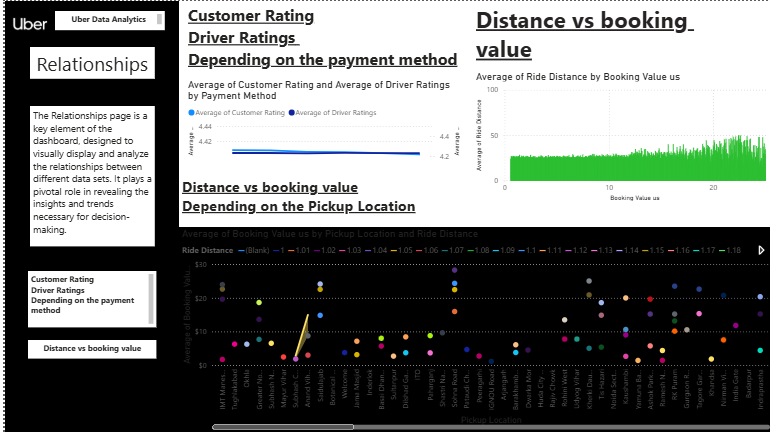

What the dashboard file says about the page in this screenshot:
{"tool":"powerbi","page":{"name":"Page 4","canvas":[1280,720],"ordinal":3},"visuals":[{"type":"textbox","box":[0,0,289.8,720],"z":0},{"type":"textbox","box":[41,76.1,207.8,52.7],"z":1000},{"type":"image","box":[0,0,83.4,76.1],"z":2000},{"type":"textbox","box":[83.4,16.1,182.9,32.2],"z":3000},{"type":"textbox","box":[41,175.6,207.8,234.1],"z":4000},{"type":"textbox","box":[38,450.7,213.7,93.7],"z":5000},{"type":"textbox","box":[300,0,480,128.8],"z":6000},{"type":"lineChart","fields":{"Category":["مشروع تخرج اوبر.Payment Method"],"Y":["Avg(مشروع تخرج اوبر.Customer Rating)"],"Y2":["Avg(مشروع تخرج اوبر.Driver Ratings)"]},"box":[300,128.6,462.9,144.3],"z":7000},{"type":"textbox","box":[38.6,565.7,214.3,31.4],"z":8000},{"type":"textbox","box":[780,0,462.9,115.7],"z":9000},{"type":"columnChart","fields":{"Category":["مشروع تخرج اوبر.Booking Value us "],"Y":["Avg(مشروع تخرج اوبر.Ride Distance)"]},"box":[780,115.7,500,222.9],"z":10000},{"type":"stackedAreaChart","fields":{"Category":["مشروع تخرج اوبر.Pickup Location"],"Y":["Avg(مشروع تخرج اوبر.Booking Value us )"],"Series":["مشروع تخرج اوبر.Ride Distance"]},"box":[290,377.1,990,342.9],"z":11000},{"type":"textbox","box":[290,287.1,472.9,90],"z":12000}]}

Visuals, with their boxes in screenshot pixels (x1, y1, x2, y2), scaled from the page's 1280x720 canvas onto the 770x432 screenshot:
textbox: <bbox>0, 0, 174, 431</bbox>
textbox: <bbox>25, 46, 150, 77</bbox>
image: <bbox>0, 0, 50, 46</bbox>
textbox: <bbox>50, 10, 160, 29</bbox>
textbox: <bbox>25, 105, 150, 246</bbox>
textbox: <bbox>23, 270, 151, 327</bbox>
textbox: <bbox>180, 0, 469, 77</bbox>
lineChart - مشروع تخرج اوبر.Payment Method x Avg(مشروع تخرج اوبر.Customer Rating): <bbox>180, 77, 459, 164</bbox>
textbox: <bbox>23, 339, 152, 358</bbox>
textbox: <bbox>469, 0, 748, 69</bbox>
columnChart - مشروع تخرج اوبر.Booking Value us  x Avg(مشروع تخرج اوبر.Ride Distance): <bbox>469, 69, 769, 203</bbox>
stackedAreaChart - مشروع تخرج اوبر.Pickup Location x Avg(مشروع تخرج اوبر.Booking Value us ): <bbox>174, 226, 769, 431</bbox>
textbox: <bbox>174, 172, 459, 226</bbox>
